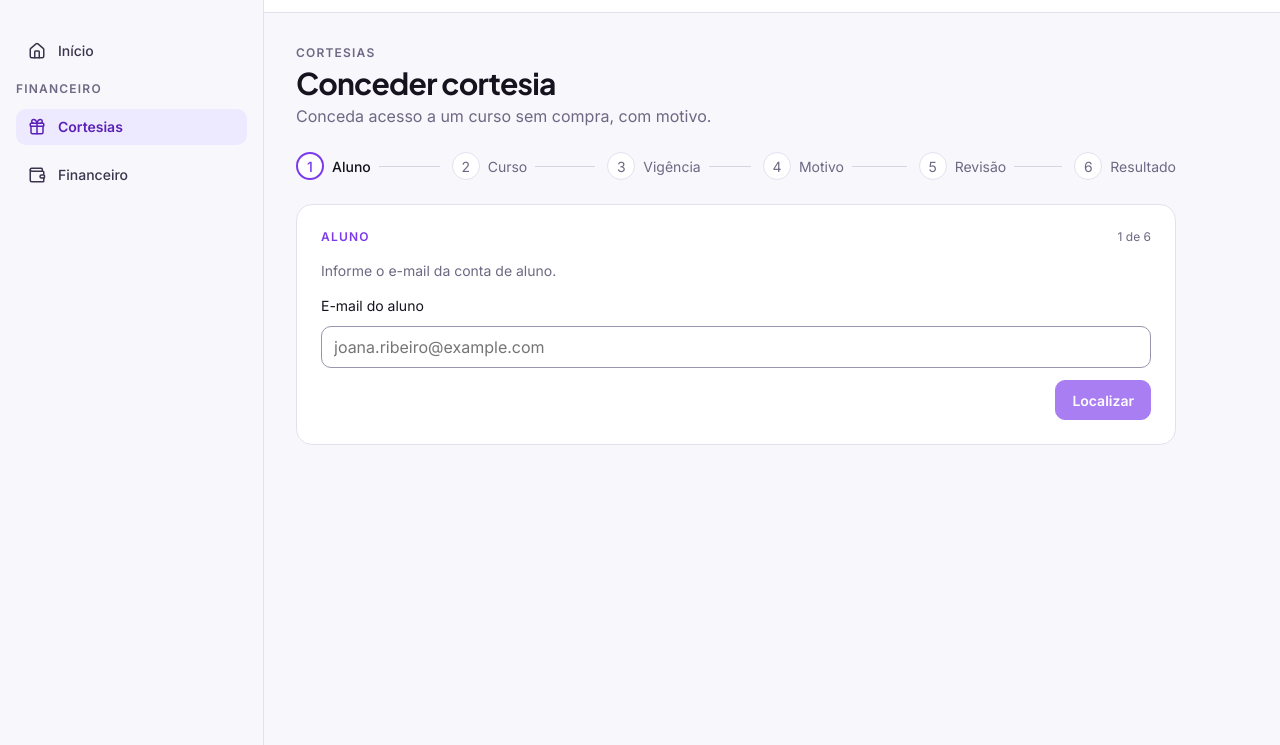
Test: courtesy course step › shows the offer pill, the chosen state and hides pagination for a single page
Type "joana@student.test" into the field labelled "E-mail do aluno" at (736, 348), box [321,326,1151,368]
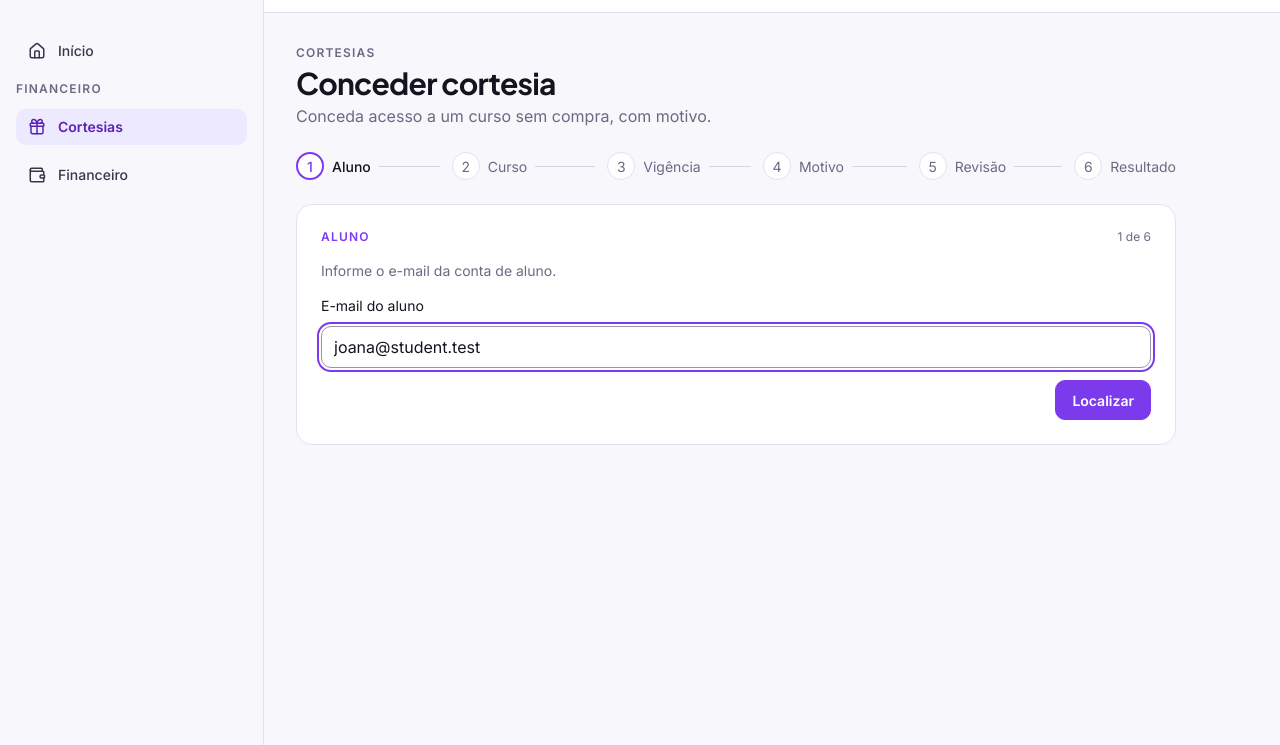
Click the button "Localizar" at (1103, 400), box [1055,380,1151,420]
(page scrolled)
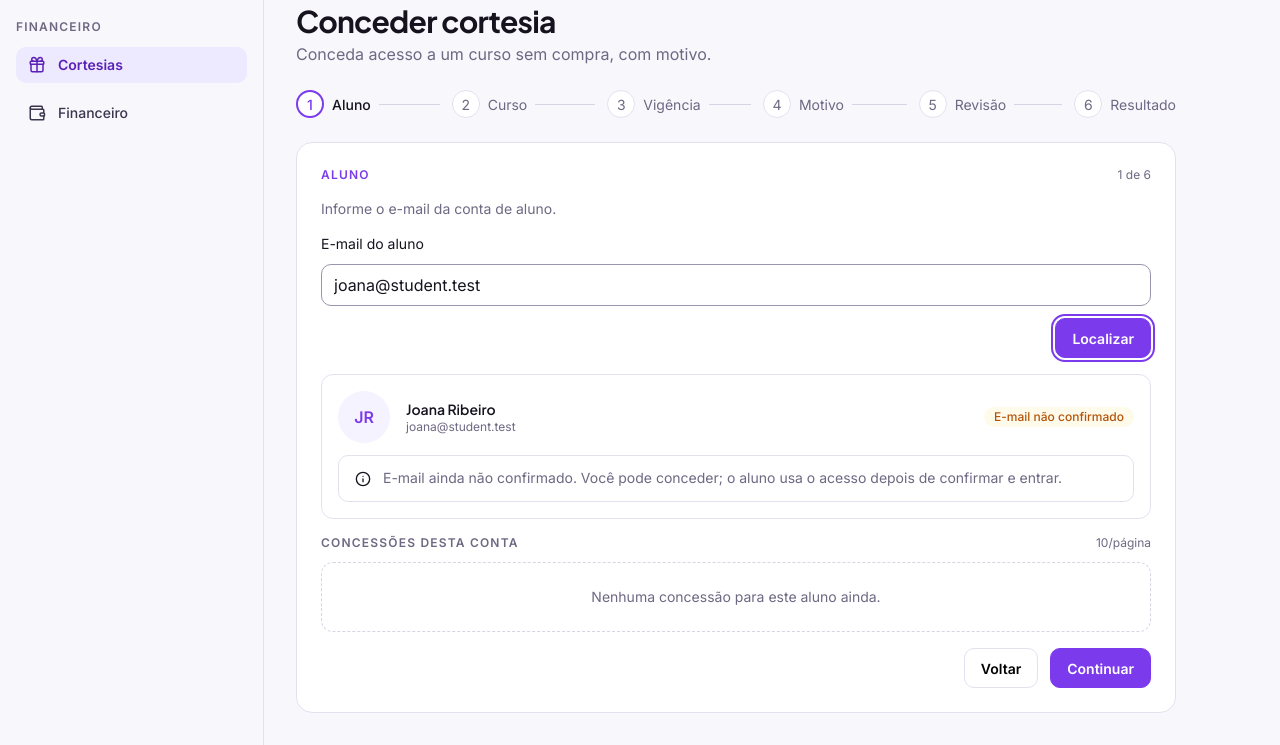
Check: the heading "Joana Ribeiro" is shown, box [406,400,496,418]
Click the button "Continuar" at (1101, 668), box [1050,648,1151,688]
(page scrolled)
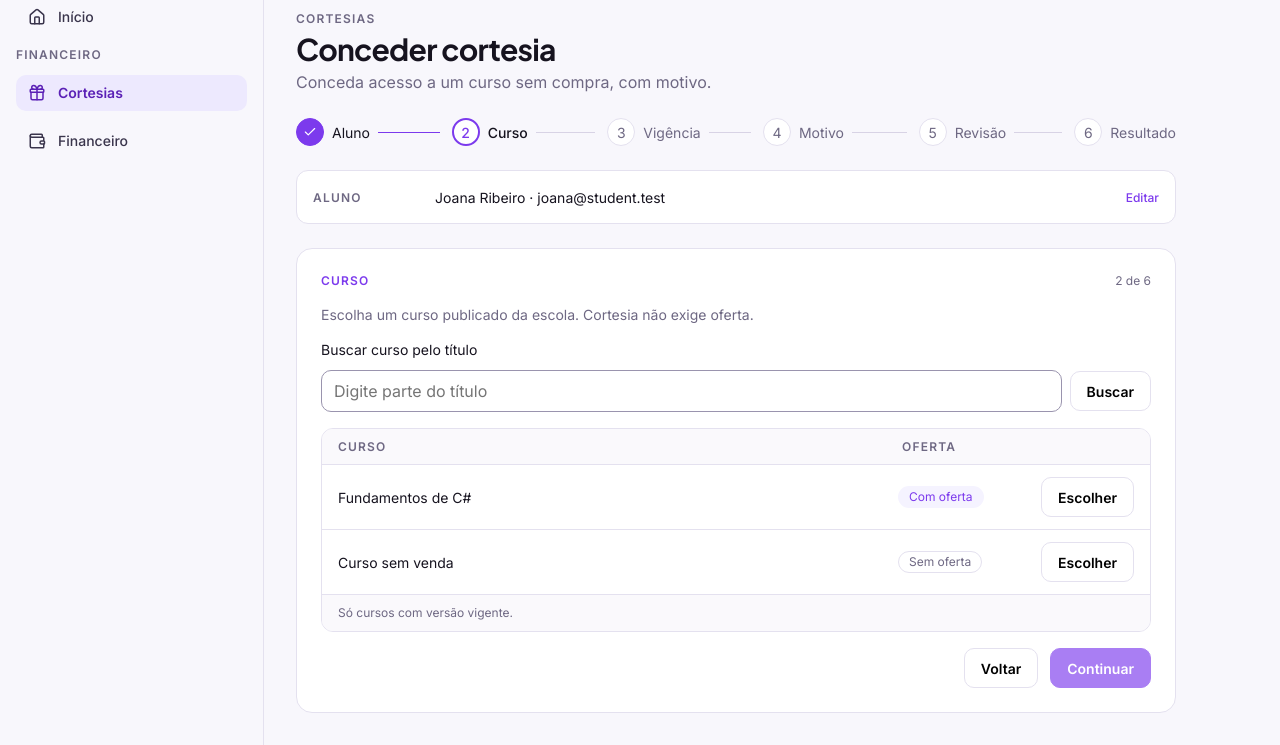
Check: the list item "Fundamentos de C# Com oferta Escolher" is shown, box [322,464,1150,530]
Check: the list item "Curso sem venda Sem oferta Escolher" is shown, box [322,530,1150,594]
Click the button with aria-label "Escolher Curso sem venda" at (1088, 562), box [1041,542,1134,582]
(page scrolled)
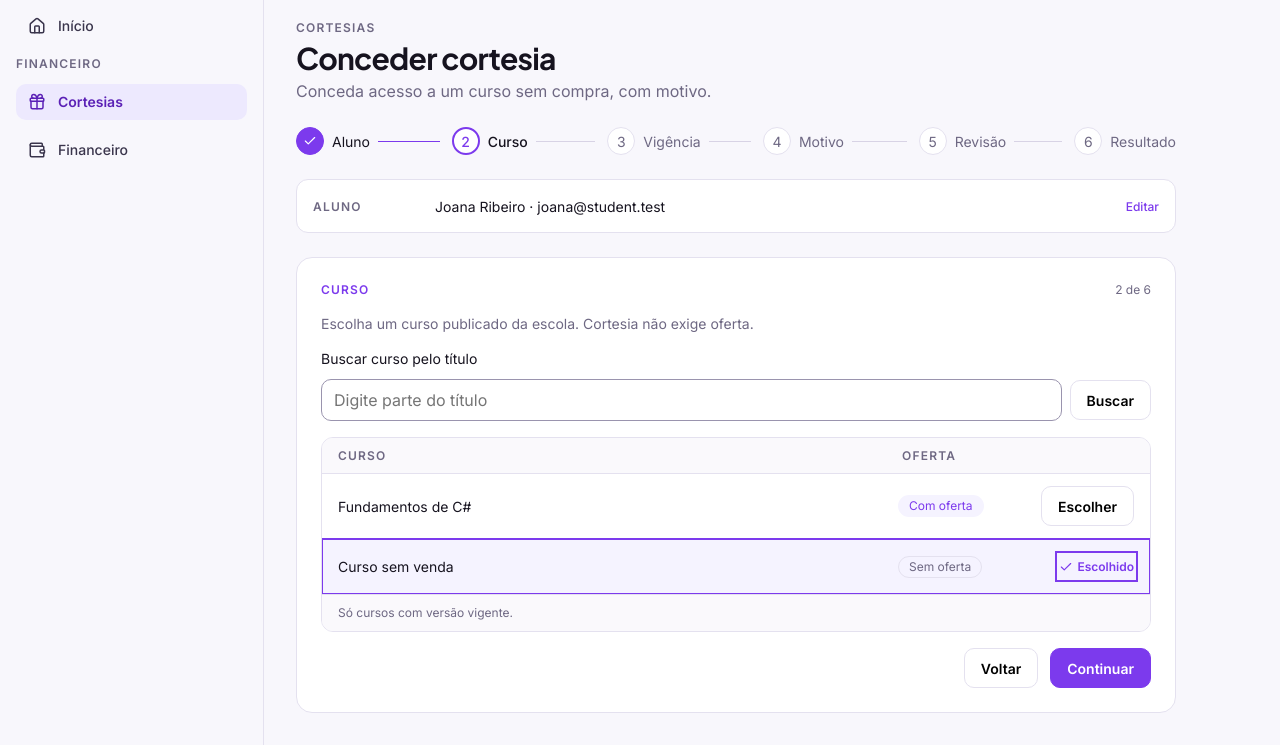
Check: the button with aria-label "Escolhido Curso sem venda" reads "Escolhido", box [1059,556,1134,578]
